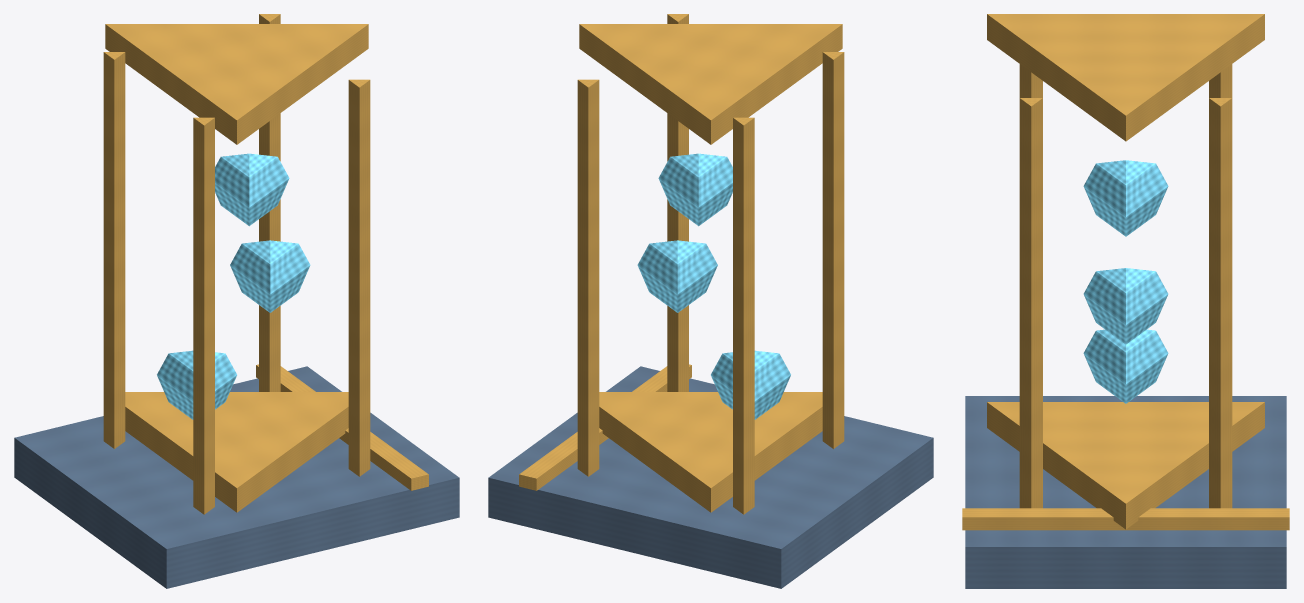
The model's file is atlas100-s051-a01.lod2.glb.
3 views of the same model, side by side, from view 1: azimuth 30°, elevation 25°; view 2: azimuth 150°, elevation 25°; view 3: azimuth 270°, elevation 25° (orthographic). The views are drawn at different scales.
Visible parts, largest first — view 1: atlas100-s051-a01:part-000, atlas100-s051-a01:part-004, atlas100-s051-a01:part-003, atlas100-s051-a01:part-005, atlas100-s051-a01:part-009, atlas100-s051-a01:part-007, atlas100-s051-a01:part-014, atlas100-s051-a01:part-015, atlas100-s051-a01:part-011, atlas100-s051-a01:part-013, atlas100-s051-a01:part-002; view 2: atlas100-s051-a01:part-000, atlas100-s051-a01:part-004, atlas100-s051-a01:part-003, atlas100-s051-a01:part-011, atlas100-s051-a01:part-007, atlas100-s051-a01:part-009, atlas100-s051-a01:part-014, atlas100-s051-a01:part-015, atlas100-s051-a01:part-005, atlas100-s051-a01:part-013, atlas100-s051-a01:part-002; view 3: atlas100-s051-a01:part-000, atlas100-s051-a01:part-004, atlas100-s051-a01:part-003, atlas100-s051-a01:part-005, atlas100-s051-a01:part-011, atlas100-s051-a01:part-002, atlas100-s051-a01:part-014, atlas100-s051-a01:part-015, atlas100-s051-a01:part-013, atlas100-s051-a01:part-007, atlas100-s051-a01:part-009.
Part boxes in pixels (x1,y1,x2,y2): atlas100-s051-a01:part-000: [14, 366, 459, 588]; atlas100-s051-a01:part-004: [105, 24, 368, 144]; atlas100-s051-a01:part-003: [125, 392, 348, 512]; atlas100-s051-a01:part-005: [348, 79, 370, 476]; atlas100-s051-a01:part-009: [103, 52, 125, 448]; atlas100-s051-a01:part-007: [193, 117, 214, 514]; atlas100-s051-a01:part-014: [230, 240, 310, 312]; atlas100-s051-a01:part-015: [215, 153, 289, 226]; atlas100-s051-a01:part-011: [259, 14, 280, 391]; atlas100-s051-a01:part-013: [157, 350, 236, 419]; atlas100-s051-a01:part-002: [256, 364, 428, 490]; atlas100-s051-a01:part-000: [488, 366, 933, 588]; atlas100-s051-a01:part-004: [579, 24, 842, 144]; atlas100-s051-a01:part-003: [599, 392, 822, 512]; atlas100-s051-a01:part-011: [577, 79, 599, 476]; atlas100-s051-a01:part-007: [822, 52, 844, 448]; atlas100-s051-a01:part-009: [733, 117, 754, 514]; atlas100-s051-a01:part-014: [637, 240, 717, 312]; atlas100-s051-a01:part-015: [658, 153, 732, 226]; atlas100-s051-a01:part-005: [667, 14, 688, 391]; atlas100-s051-a01:part-013: [711, 350, 790, 419]; atlas100-s051-a01:part-002: [519, 364, 691, 490]; atlas100-s051-a01:part-000: [965, 396, 1286, 588]; atlas100-s051-a01:part-004: [987, 14, 1264, 141]; atlas100-s051-a01:part-003: [987, 402, 1264, 529]; atlas100-s051-a01:part-005: [1019, 98, 1042, 508]; atlas100-s051-a01:part-011: [1209, 98, 1232, 508]; atlas100-s051-a01:part-002: [962, 508, 1289, 530]; atlas100-s051-a01:part-014: [1083, 268, 1168, 344]; atlas100-s051-a01:part-015: [1083, 160, 1168, 236]; atlas100-s051-a01:part-013: [1083, 329, 1168, 403]; atlas100-s051-a01:part-007: [1019, 64, 1042, 97]; atlas100-s051-a01:part-009: [1209, 64, 1232, 97].
Bounding box in the file's own units: 2 × 2.88 × 1.84.
3 materials, 3 textured.
